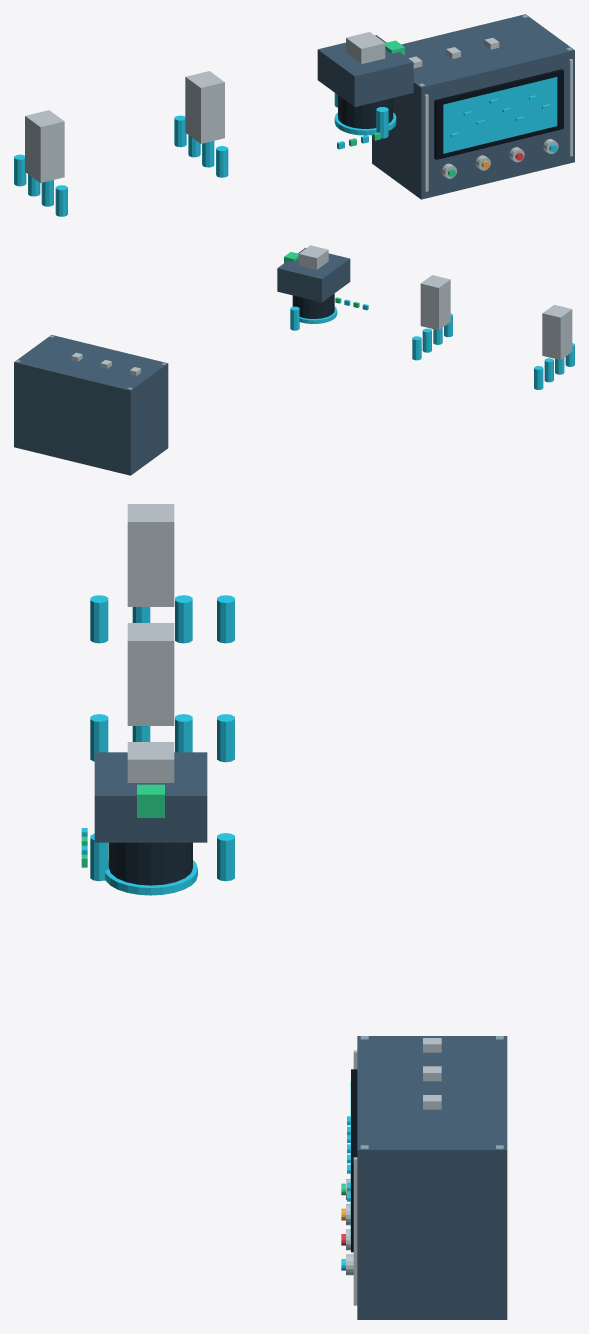
The model's file is 42_L79_InterfaceGapSensorArray.fbx.
3 views of the same model, one above another, from view 1: azimuth 30°, elevation 25°; view 2: azimuth 150°, elevation 25°; view 3: azimuth 270°, elevation 25° (orthographic). The views are drawn at different scales.
Parts seen in each view (by area): view 1: InterfaceGapSensorArray, InterfaceGapSensorArray_Part_0043, InterfaceGapSensorArray_Part_0044, InterfaceGapSensorArray_Part_0045; view 2: InterfaceGapSensorArray, InterfaceGapSensorArray_Part_0043, InterfaceGapSensorArray_Part_0044; view 3: InterfaceGapSensorArray, InterfaceGapSensorArray_Part_0043, InterfaceGapSensorArray_Part_0044, InterfaceGapSensorArray_Part_0045.
Part boxes in pixels (bbox=[...]): InterfaceGapSensorArray: bbox=[14, 14, 574, 216]; InterfaceGapSensorArray_Part_0043: bbox=[317, 35, 413, 106]; InterfaceGapSensorArray_Part_0044: bbox=[338, 95, 393, 128]; InterfaceGapSensorArray_Part_0045: bbox=[334, 112, 396, 135]; InterfaceGapSensorArray: bbox=[14, 245, 574, 475]; InterfaceGapSensorArray_Part_0043: bbox=[277, 247, 350, 302]; InterfaceGapSensorArray_Part_0044: bbox=[292, 293, 334, 318]; InterfaceGapSensorArray: bbox=[81, 504, 507, 1319]; InterfaceGapSensorArray_Part_0043: bbox=[94, 752, 207, 842]; InterfaceGapSensorArray_Part_0044: bbox=[108, 842, 192, 885]; InterfaceGapSensorArray_Part_0045: bbox=[105, 860, 197, 895].
Size of the model in its own units: 456 by 171 by 182.
